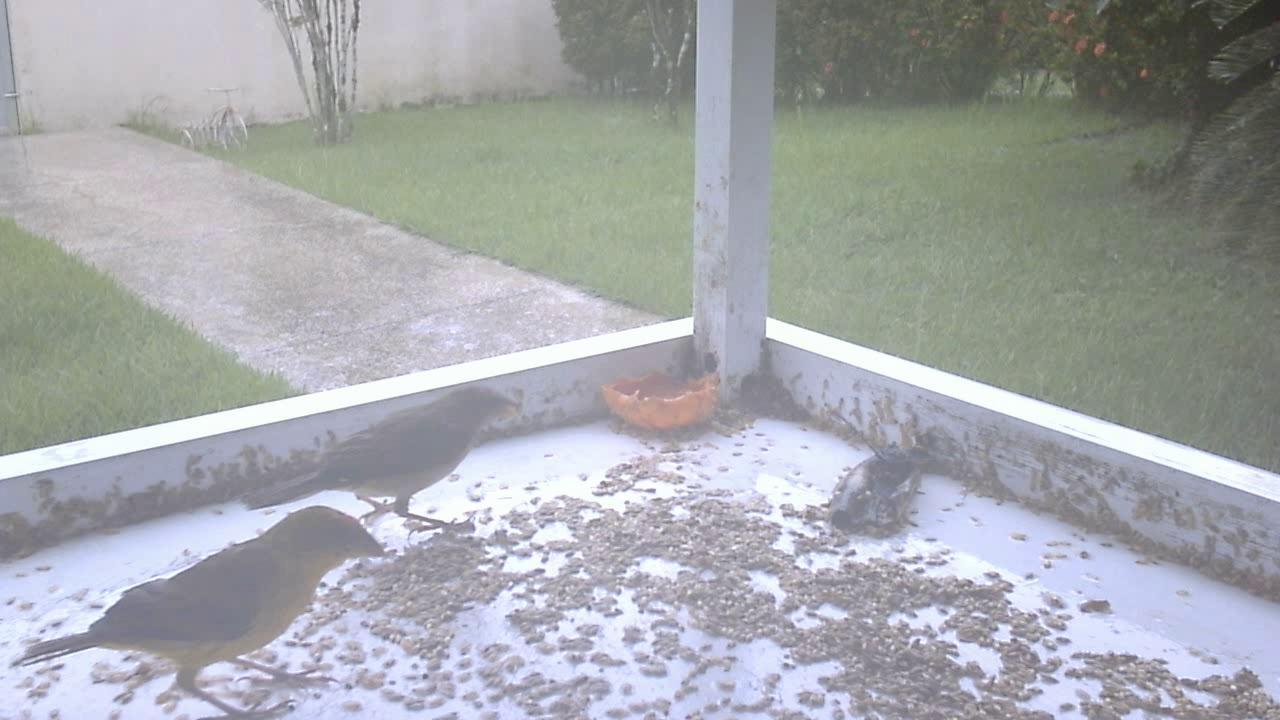canario_do_amazonas: (1, 493, 389, 716), (272, 381, 526, 551)
